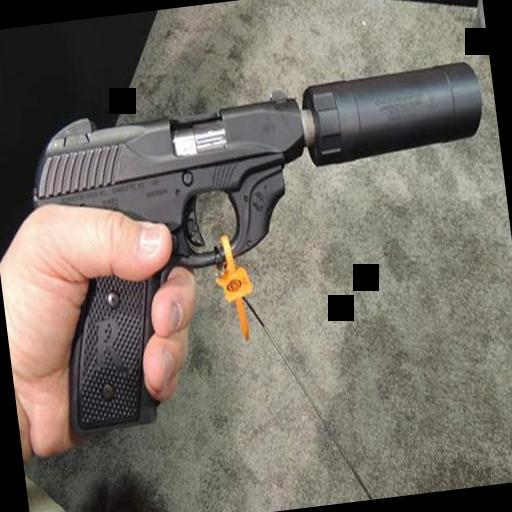Handgun: (15, 86, 344, 436)
